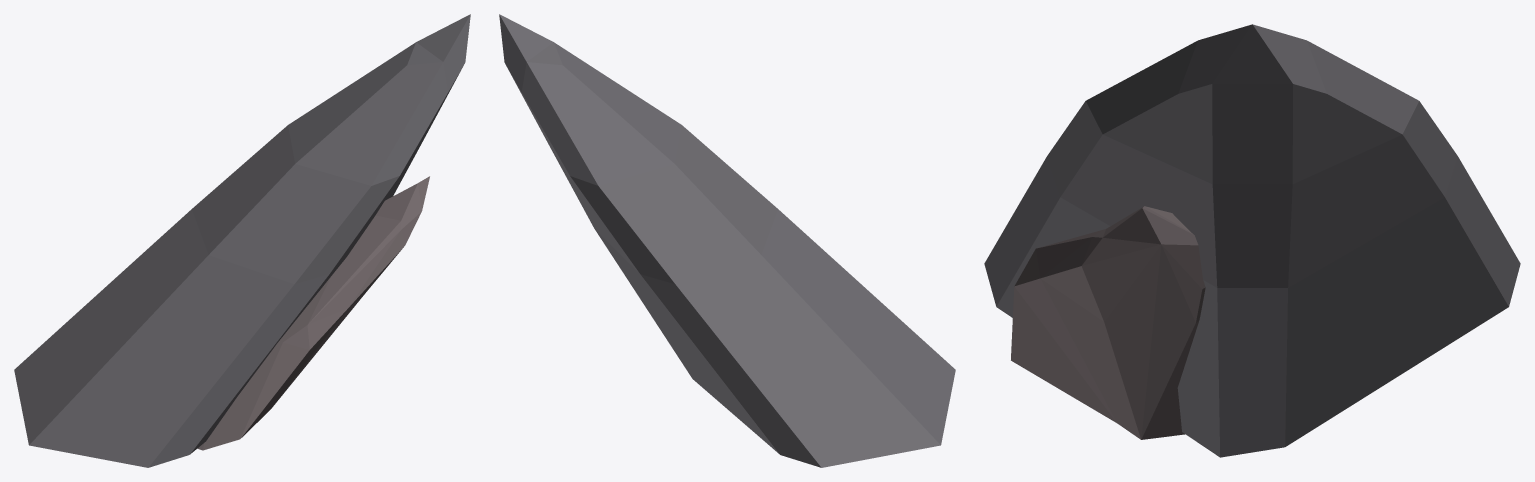
The model's file is Rocks_Sharp_l_02.fbx.
The picture shows the model from 3 angles, left to right: view 1: azimuth 30°, elevation 25°; view 2: azimuth 150°, elevation 25°; view 3: azimuth 270°, elevation 25°; orthographic projection. The views are drawn at different scales.
Visible parts, largest first — view 1: Rocks_Sharp_l_02; view 2: Rocks_Sharp_l_02; view 3: Rocks_Sharp_l_02.
Boxes of the visible parts, box(x1,y1,x2,y2) form: Rocks_Sharp_l_02: box(14, 14, 470, 467); Rocks_Sharp_l_02: box(499, 14, 955, 467); Rocks_Sharp_l_02: box(984, 24, 1520, 457).
Bounding box in the file's own units: 11.89 × 8.33 × 6.25.
